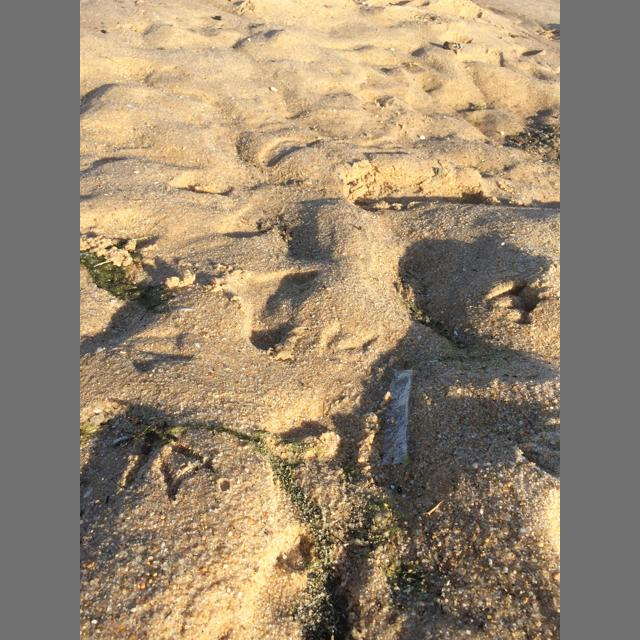litter: (382, 368, 412, 465)
